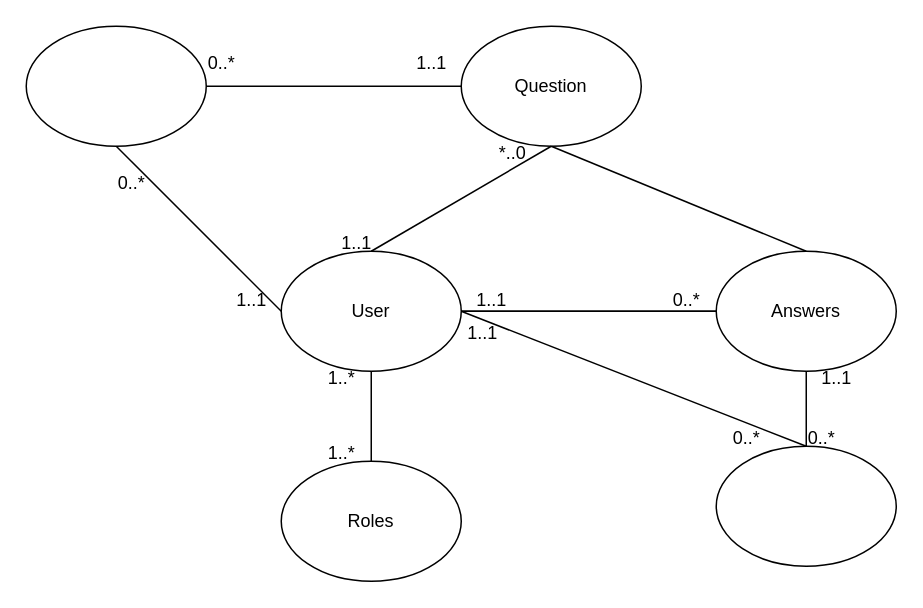
Image size: 923x608. Some labels were removed from this diagram. Each missing label, with the centre of its shape:
"Comments" belongs at point 805,505.
"QuestionsLikes" belongs at point 115,85.
